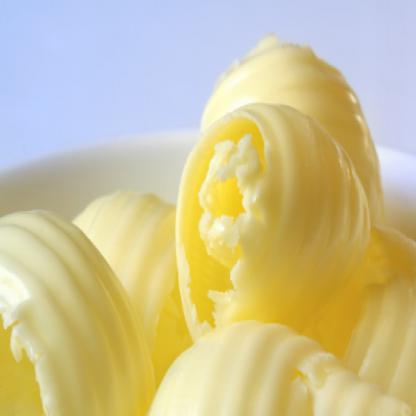butter: (187, 44, 406, 415)
